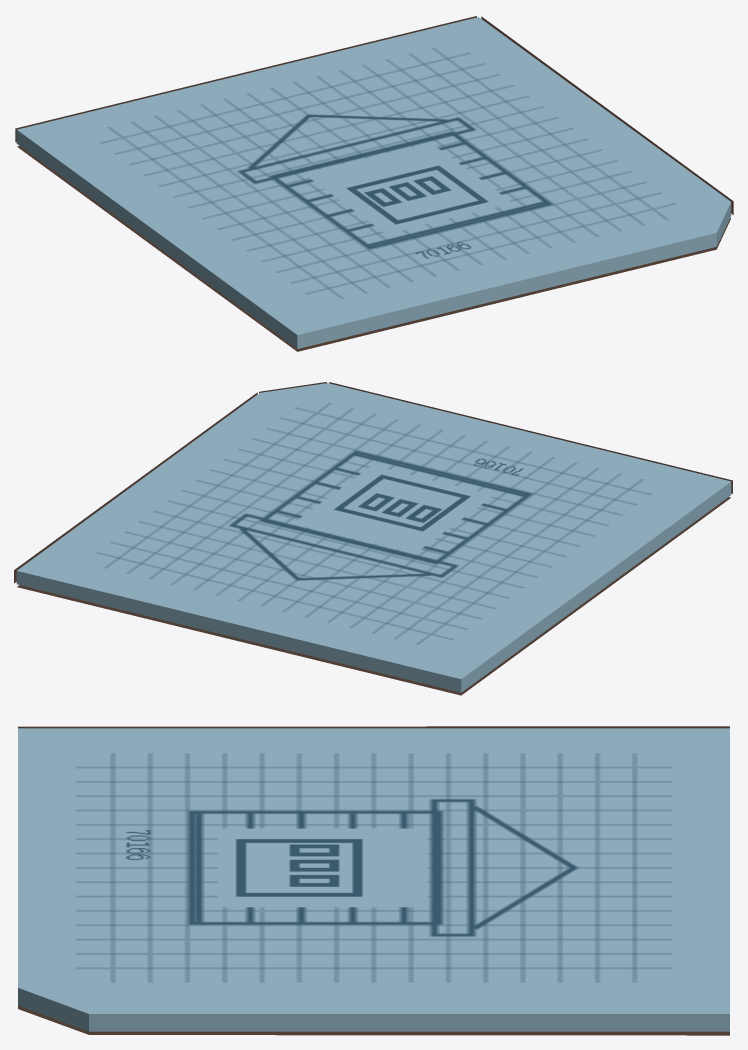
Rendered from prop_70166.glb.
3 renders of one model, top to bottom at view 1: azimuth 30°, elevation 25°; view 2: azimuth 150°, elevation 25°; view 3: azimuth 270°, elevation 25°, orthographic. The views are drawn at different scales.
Visible parts, largest first — view 1: prop_70166; view 2: prop_70166; view 3: prop_70166.
Boxes of the visible parts, left/top/right/bottom form: prop_70166: left=15, top=16, right=733, bottom=351; prop_70166: left=14, top=382, right=732, bottom=695; prop_70166: left=18, top=726, right=729, bottom=1035.
Size of the model in its own units: 0.7892 by 0.0321 by 0.83.
Materials: 3 (1 with a texture image).
